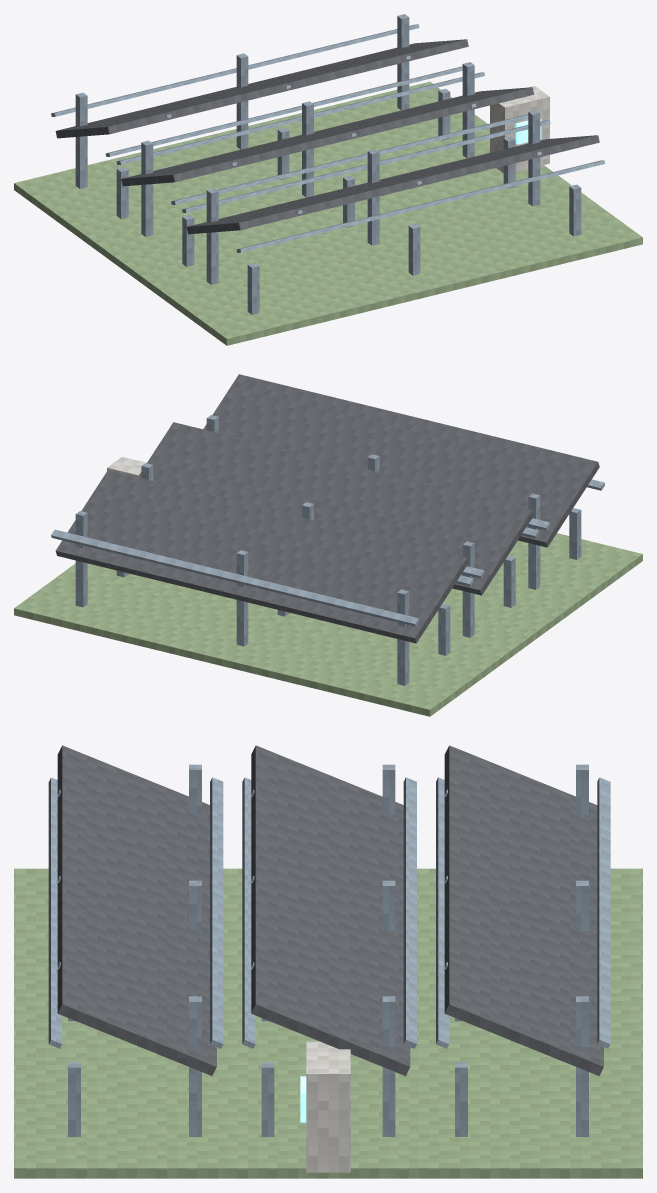
The model's file is pixel-modern-farm-solar-panel-array-c21389c9__29107.glb.
The picture shows the model from 3 angles, top to bottom: view 1: azimuth 30°, elevation 25°; view 2: azimuth 150°, elevation 25°; view 3: azimuth 270°, elevation 25°; orthographic projection. The views are drawn at different scales.
Visible parts, largest first — view 1: solar-panel-array; view 2: solar-panel-array; view 3: solar-panel-array.
Part boxes in pixels (left/top/right/bottom): solar-panel-array: left=14, top=14, right=642, bottom=345; solar-panel-array: left=14, top=374, right=642, bottom=716; solar-panel-array: left=14, top=745, right=642, bottom=1178.
Size of the model in its own units: 8.92 by 2.11 by 7.8.
5 materials, 5 textured.
